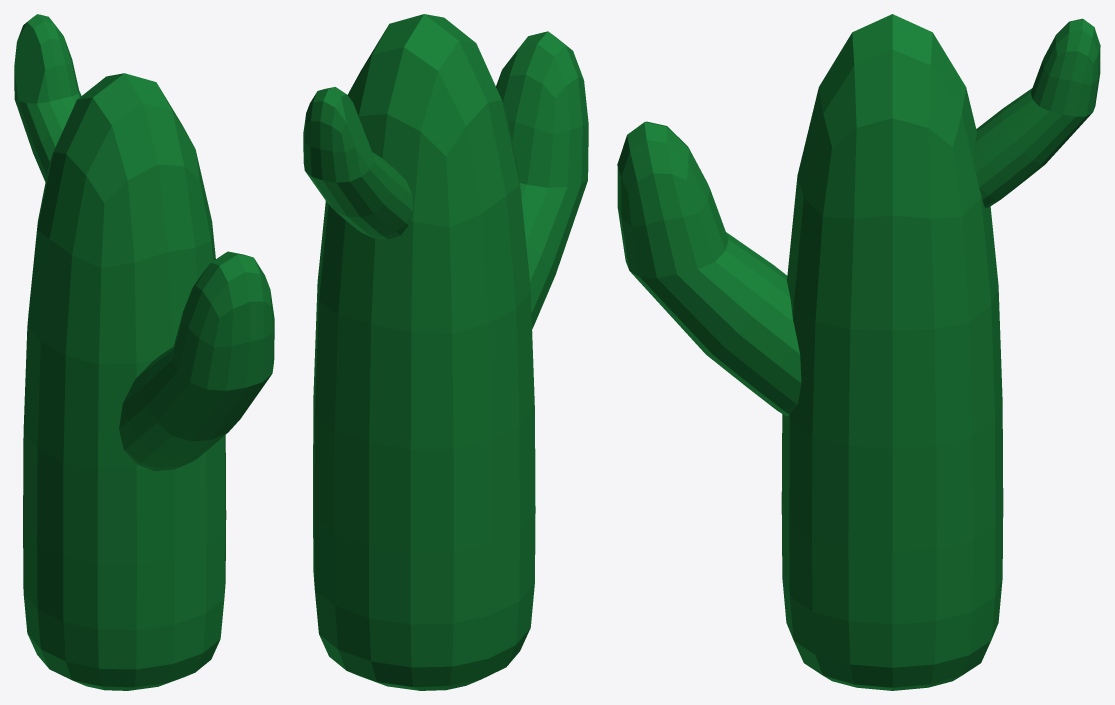
The model's file is cactus1.fbx.
3 renders of one model, left to right at view 1: azimuth 30°, elevation 25°; view 2: azimuth 150°, elevation 25°; view 3: azimuth 270°, elevation 25°, orthographic. The views are drawn at different scales.
Visible parts, largest first — view 1: Cube; view 2: Cube; view 3: Cube.
Part boxes in pixels (x1,y1,x2,y2): Cube: (14,14,274,690); Cube: (303,14,588,690); Cube: (617,14,1100,690).
Bounding box in the file's own units: 73.33 × 239 × 160.
